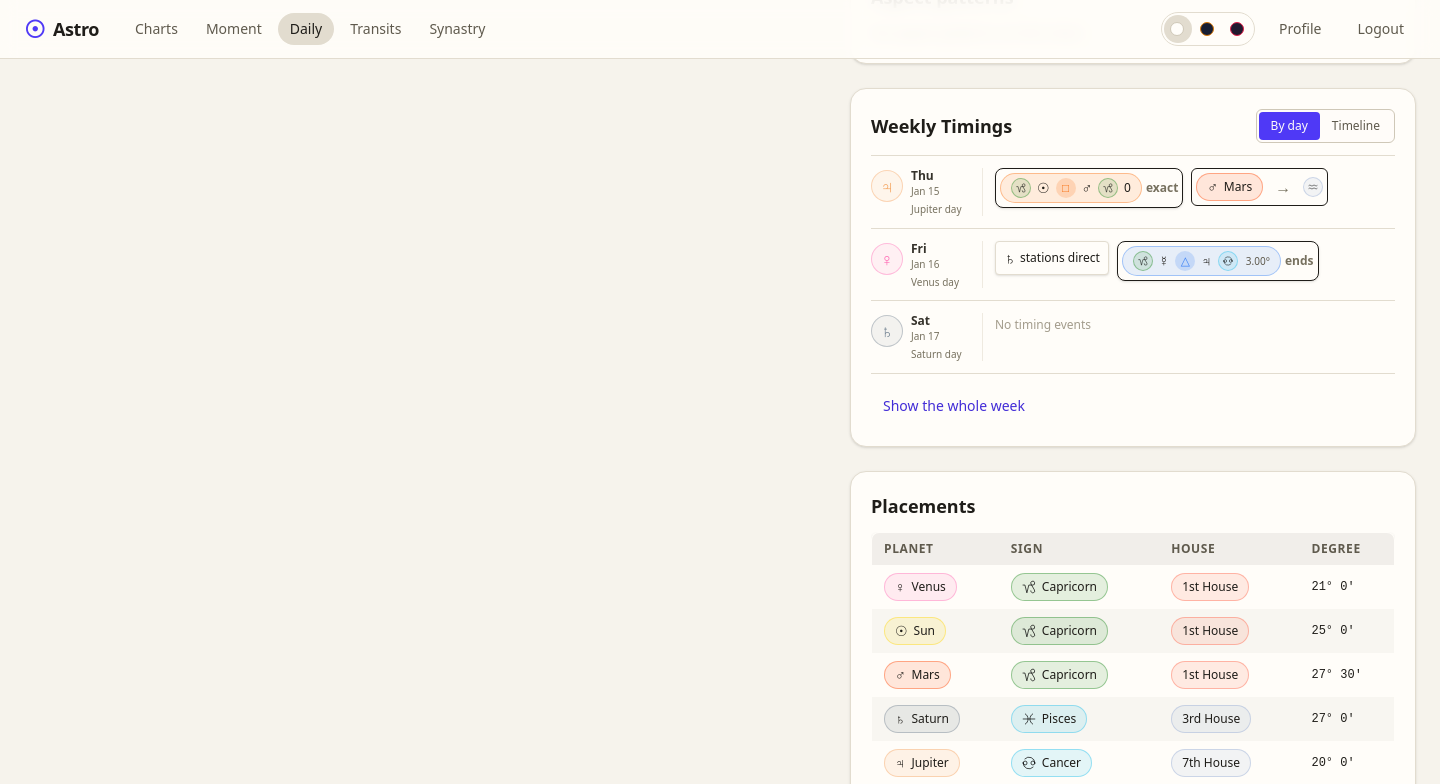
Test case: starts on the By day view, listing the seven days of this week with their rulers
The width and height of the screenshot is (1440, 784).
(page scrolled)
Click the button "Show the whole week": (954, 406) [871,386,1037,426]
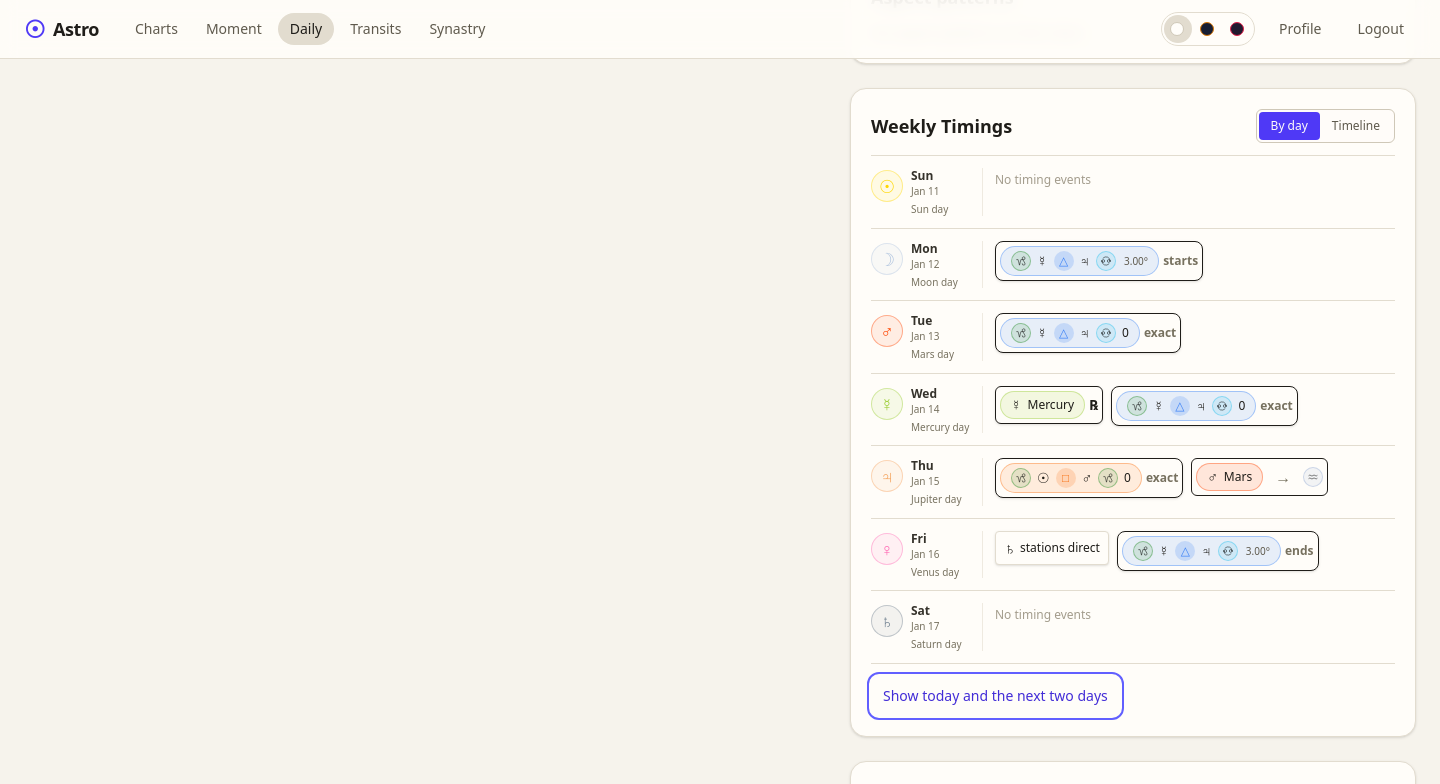
Check: the text "Sun" is shown, box [911,167,933,184]
Check: the text "Sun day" is shown, box [911,203,948,216]
Check: the text "Mon" is shown, box [911,240,938,256]
